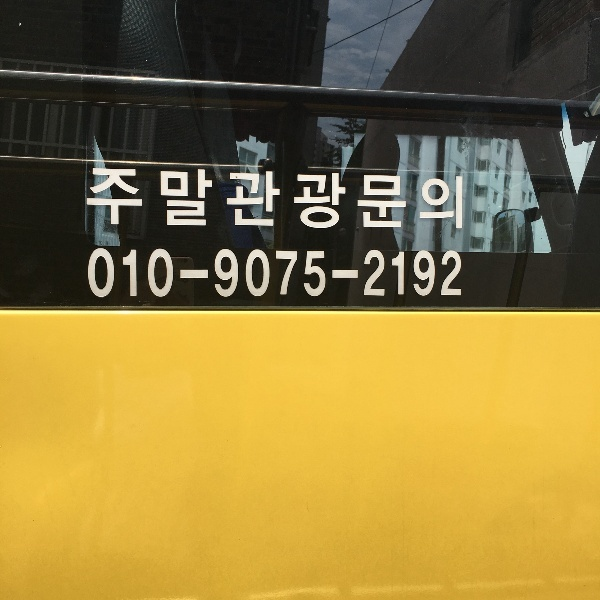text: (449, 165, 465, 232), (97, 165, 112, 232), (113, 165, 128, 232), (129, 165, 144, 232), (145, 165, 160, 232), (161, 165, 176, 232), (177, 165, 192, 232), (193, 165, 208, 232), (209, 165, 224, 232), (225, 165, 240, 232), (241, 165, 256, 232), (257, 165, 272, 232), (273, 165, 288, 232), (289, 165, 304, 232), (305, 165, 320, 232), (321, 165, 336, 232), (337, 165, 352, 232), (353, 165, 368, 232), (369, 165, 384, 232), (385, 165, 400, 232), (401, 165, 416, 232), (417, 165, 432, 232), (433, 165, 448, 232), (97, 242, 112, 303), (113, 242, 128, 303), (129, 242, 144, 303), (145, 242, 160, 303), (161, 242, 176, 303), (177, 242, 192, 303), (193, 242, 208, 303), (209, 242, 224, 303), (225, 242, 240, 303), (241, 242, 256, 303), (257, 242, 272, 303), (273, 242, 288, 303), (289, 242, 304, 303), (305, 242, 320, 303), (321, 242, 336, 303), (337, 242, 352, 303), (353, 242, 368, 303), (369, 242, 384, 303), (385, 242, 400, 303), (401, 242, 416, 303), (417, 242, 432, 303), (433, 242, 448, 303), (449, 242, 463, 303), (85, 165, 96, 232), (86, 242, 96, 303)
